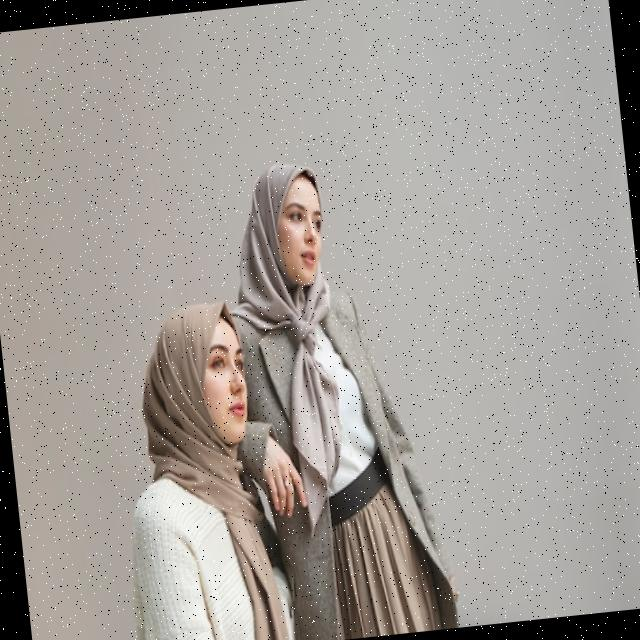Person: (205, 147, 461, 640), (97, 292, 295, 640)
